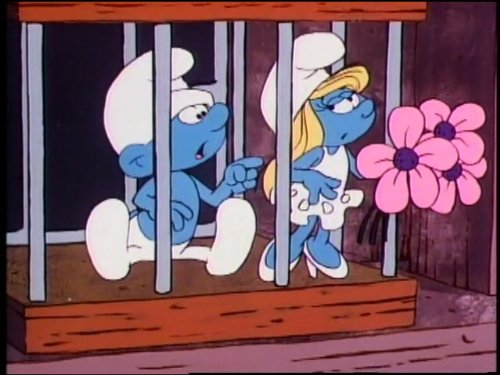smurf: (82, 43, 266, 281), (254, 32, 377, 283)
